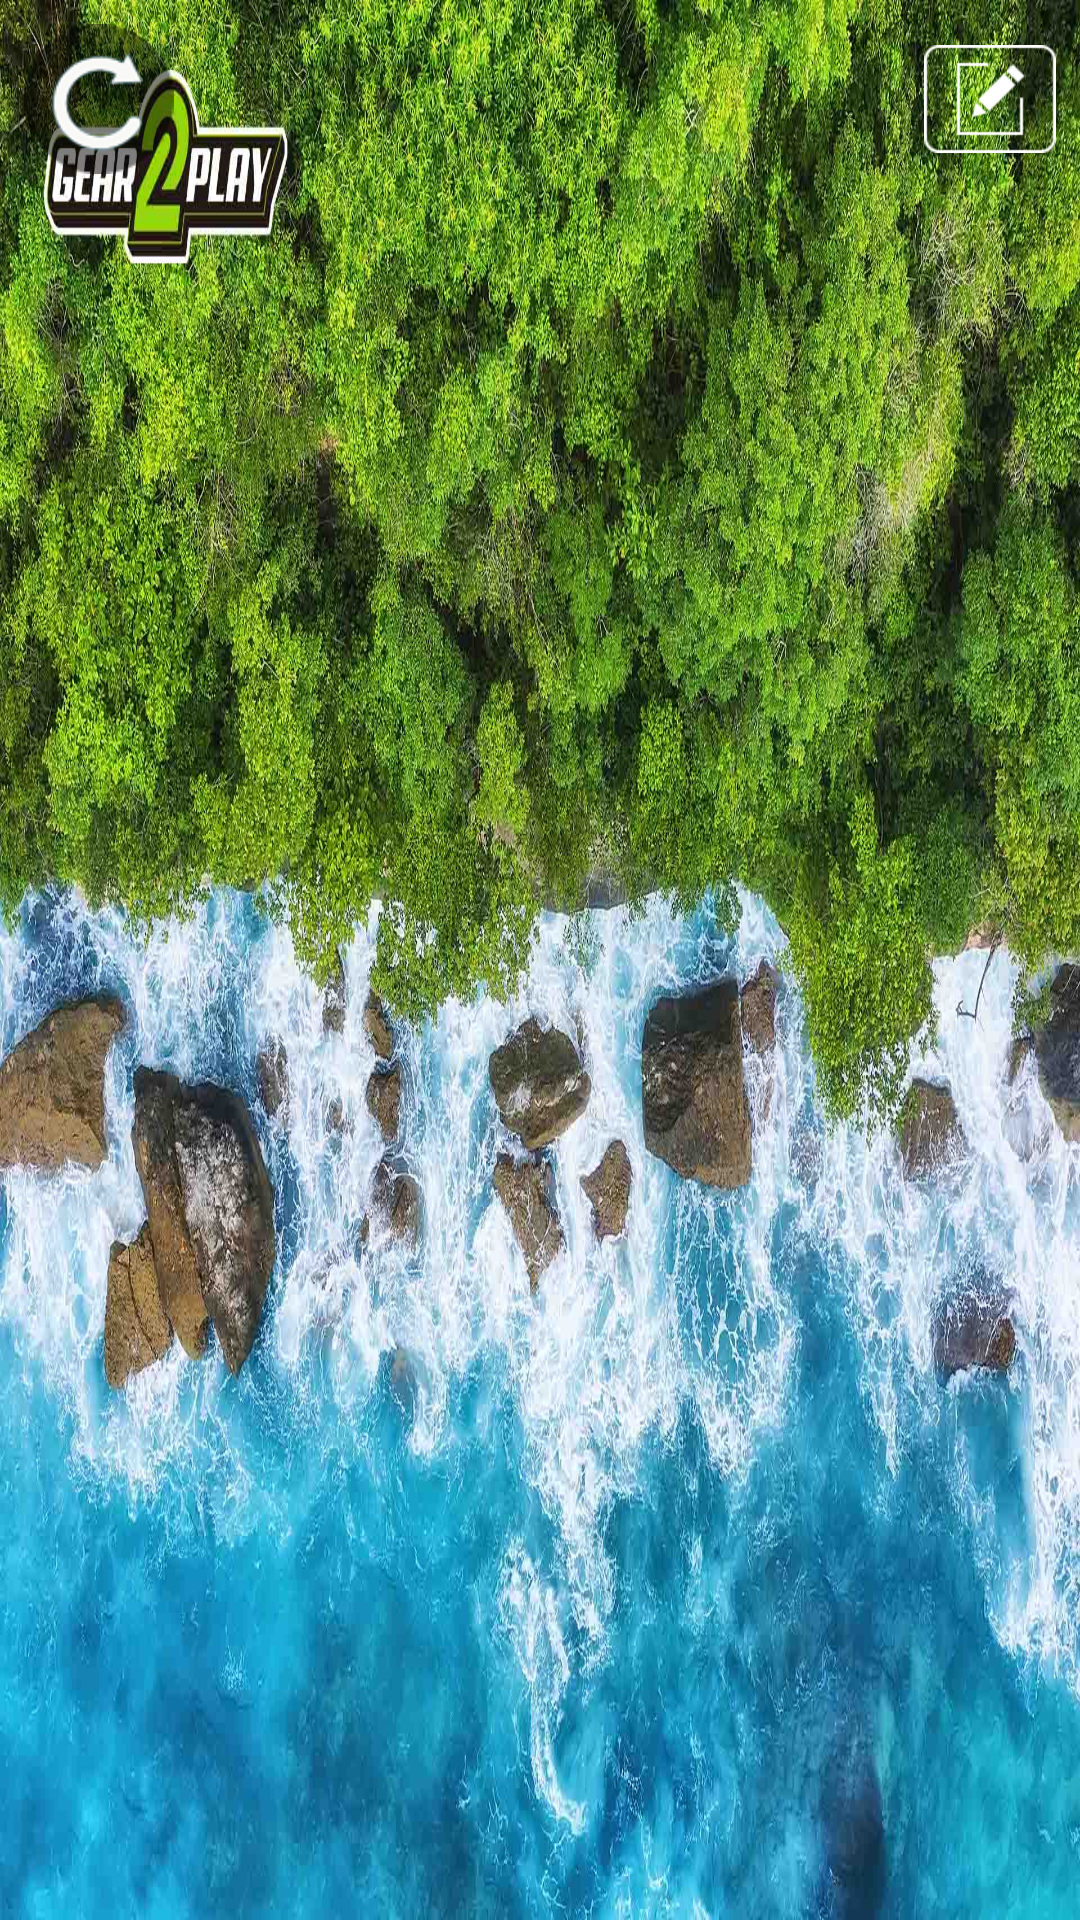

Named icons in this screenshot (1080x1920) and their centers, (x,y):
edit: (990,99)
